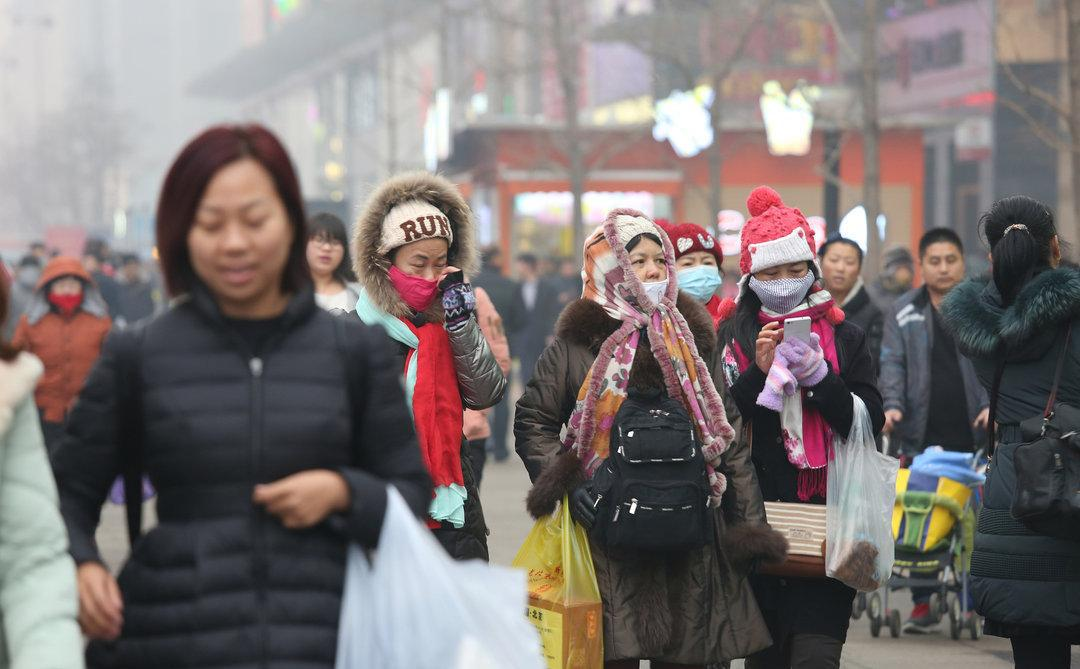NONE: (195, 201, 283, 298), (924, 253, 963, 292), (821, 253, 860, 290), (309, 237, 342, 272)
OK: (755, 256, 809, 310), (672, 251, 725, 304)
WRONG: (383, 243, 451, 307), (616, 250, 676, 310), (55, 281, 86, 313)
